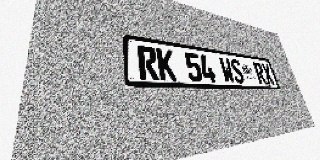4: (198, 54, 217, 82)
5: (184, 52, 204, 82)
K: (156, 48, 177, 81)
R: (137, 45, 159, 80), (253, 62, 268, 84)
S: (229, 58, 246, 83)
W: (218, 57, 236, 83)
X: (261, 63, 275, 85)
